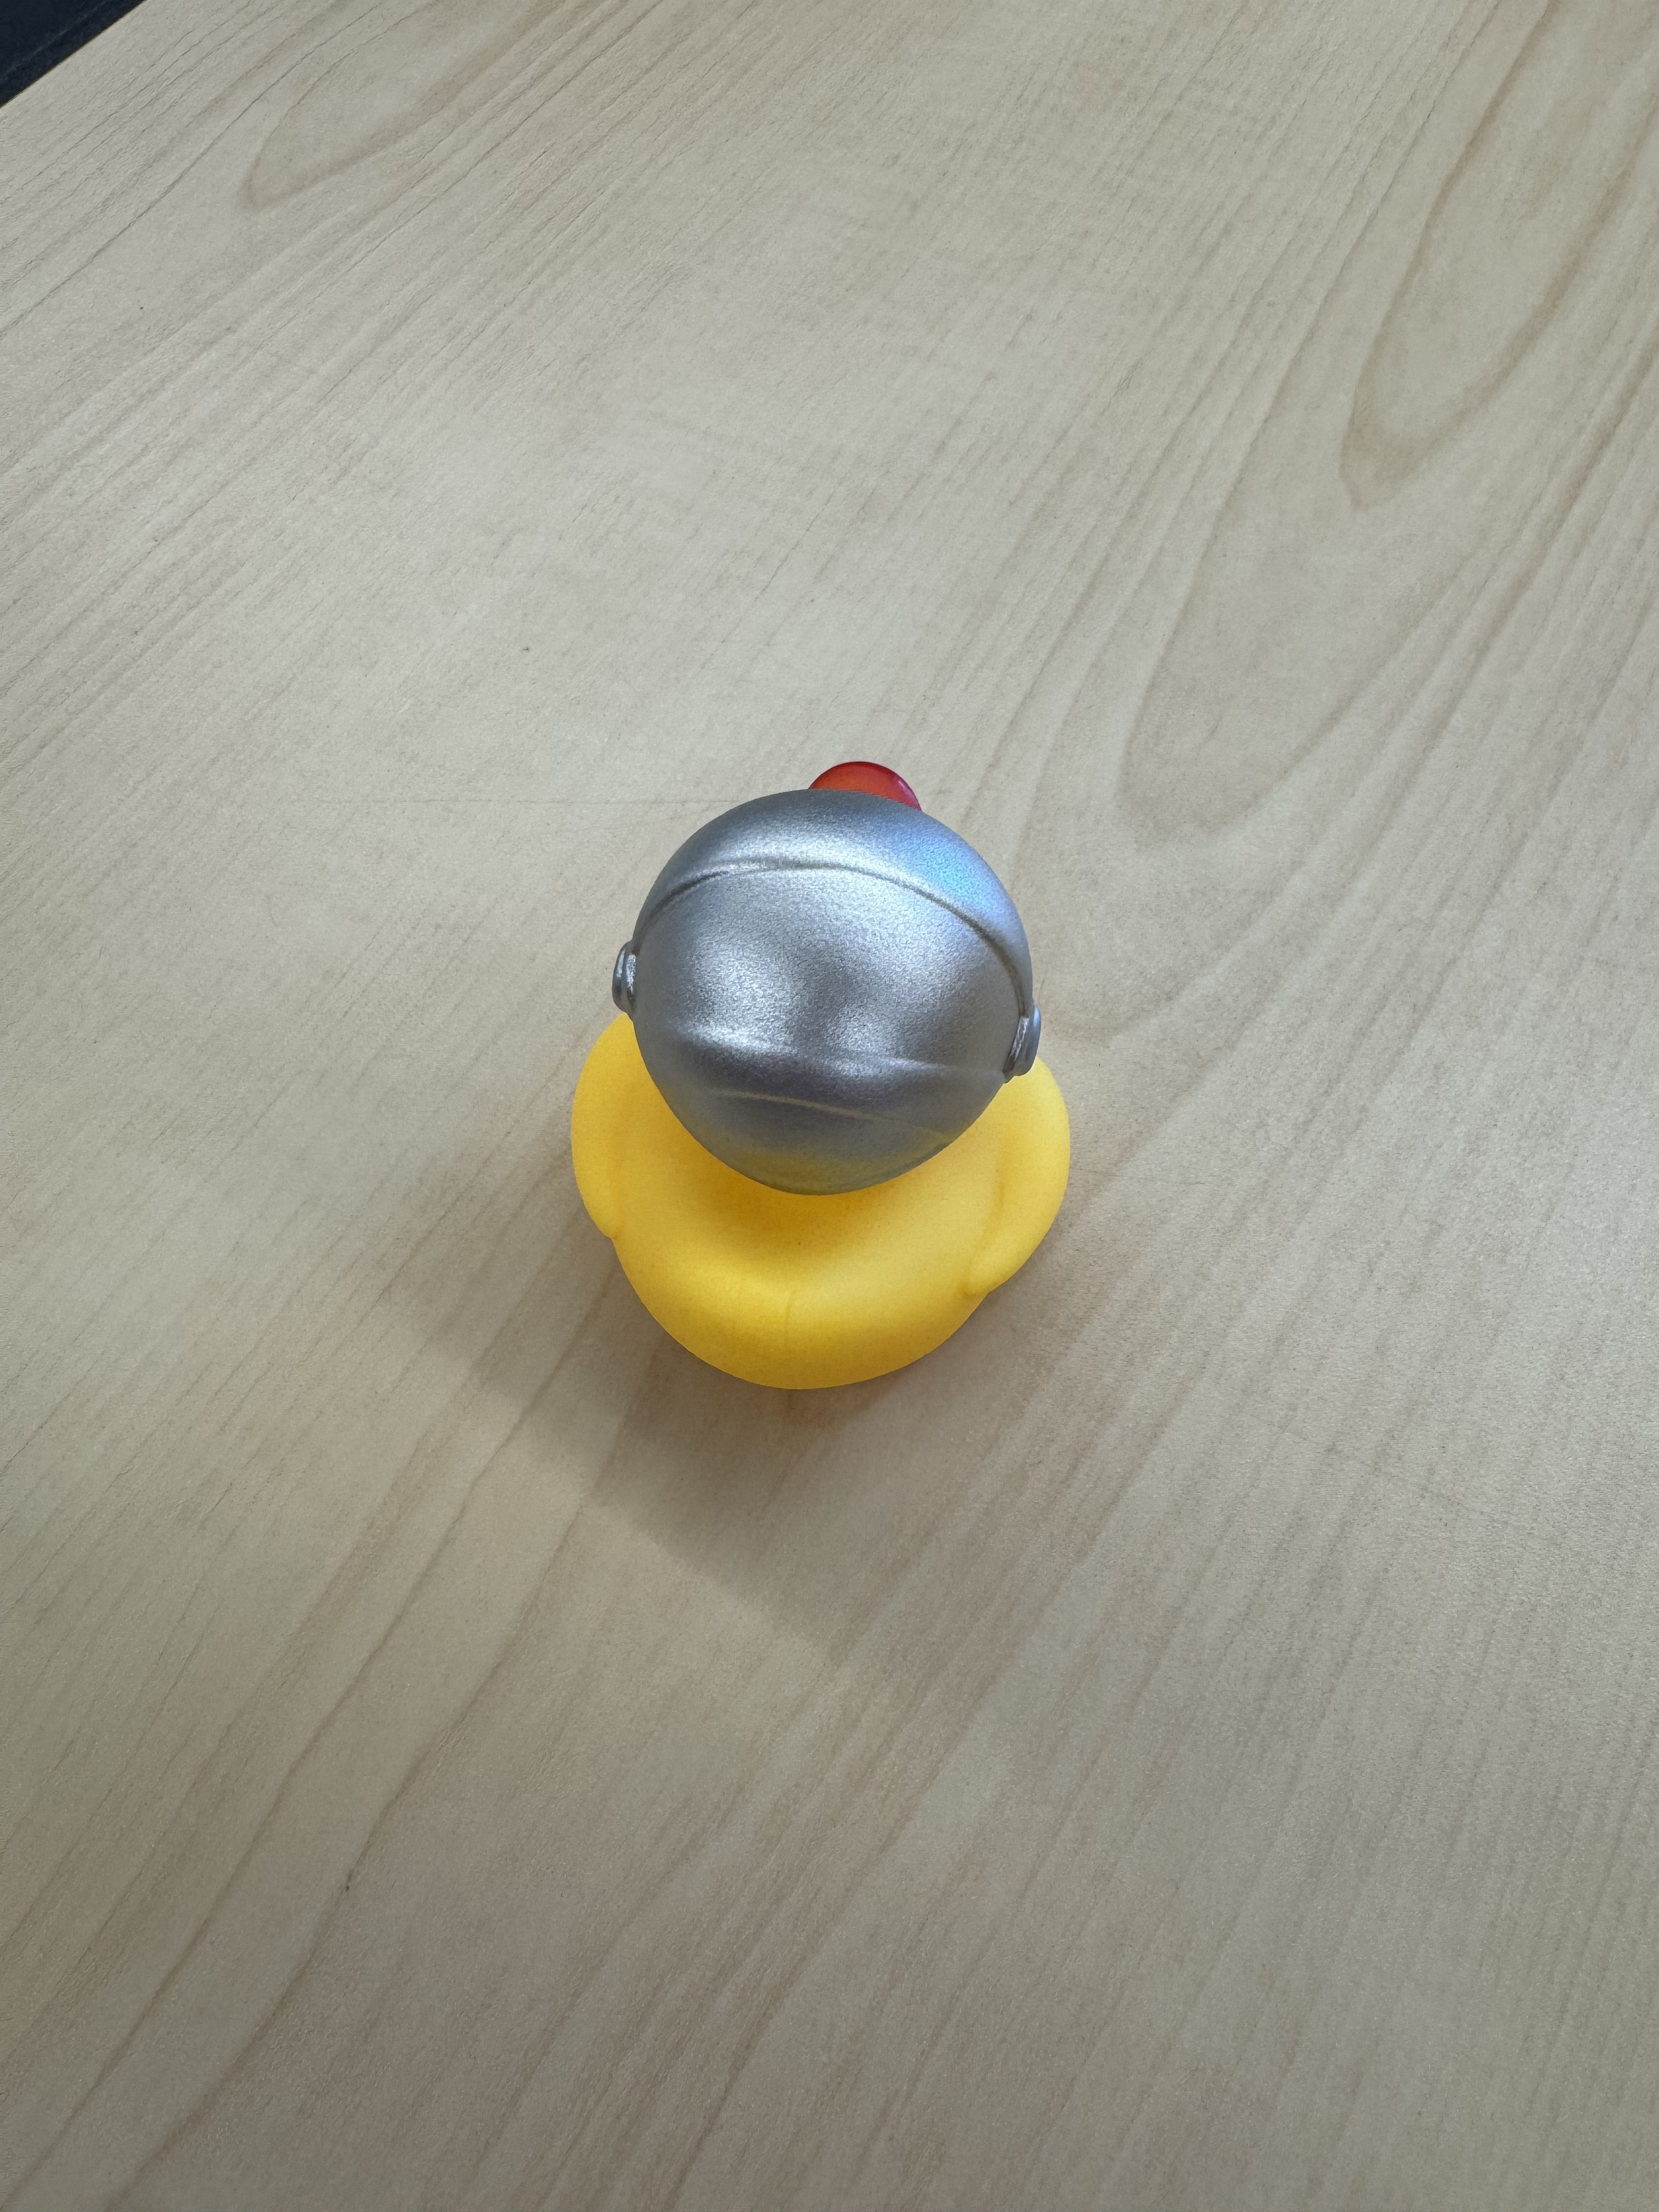duck_specialty: (554, 745, 1080, 1409)
